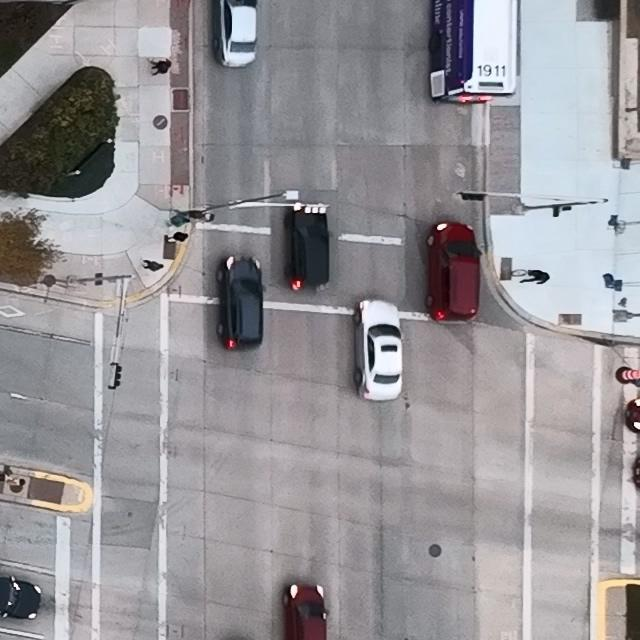car: (429, 0, 518, 104), (426, 221, 483, 325), (353, 299, 405, 402), (215, 256, 266, 352), (285, 203, 331, 290), (212, 0, 256, 68), (283, 584, 329, 640), (0, 576, 41, 619)
